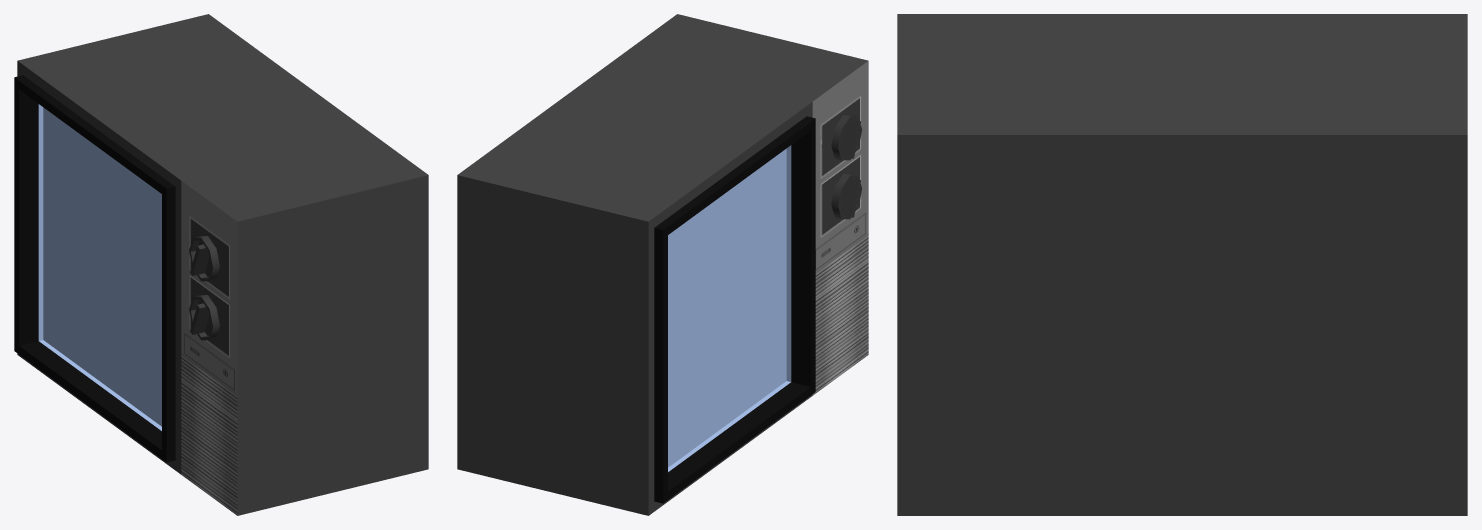
3 renders of one model, left to right at view 1: azimuth 30°, elevation 25°; view 2: azimuth 150°, elevation 25°; view 3: azimuth 270°, elevation 25°, orthographic. The views are drawn at different scales.
Visible parts, largest first — view 1: Box001, Cylinder002, Cylinder001; view 2: Box001, Cylinder002, Cylinder001; view 3: Box001.
Boxes of the visible parts, x1,y1,x2,y2 form: Box001: (14,14,428,515); Cylinder002: (189,236,219,281); Cylinder001: (189,295,219,340); Box001: (457,14,868,515); Cylinder002: (831,115,862,160); Cylinder001: (831,174,862,219); Box001: (897,14,1467,515).
Size of the model in its own units: 638 by 869 by 1178.
5 materials, 1 textured.
